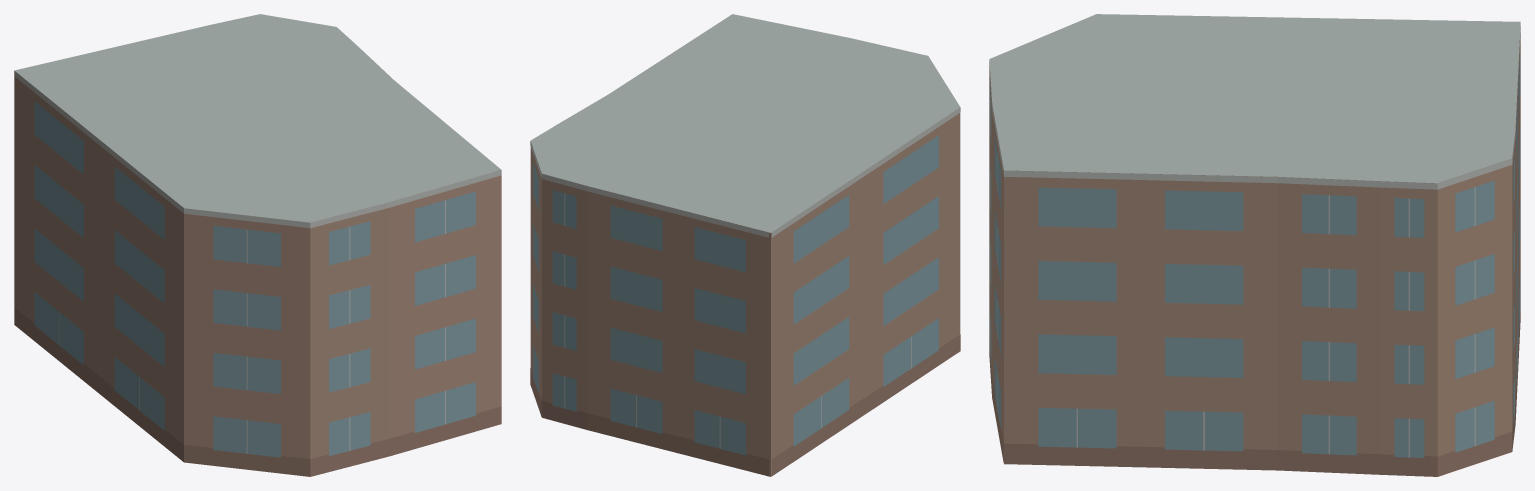
The model's file is survey-upis-32576936.glb.
3 views of the same model, side by side, from view 1: azimuth 30°, elevation 25°; view 2: azimuth 150°, elevation 25°; view 3: azimuth 270°, elevation 25° (orthographic). The views are drawn at different scales.
Parts seen in each view (by area): view 1: survey-upis-32576936.tmp; view 2: survey-upis-32576936.tmp; view 3: survey-upis-32576936.tmp.
Part boxes in pixels (x1,y1,x2,y2): survey-upis-32576936.tmp: [14, 14, 501, 476]; survey-upis-32576936.tmp: [530, 14, 960, 476]; survey-upis-32576936.tmp: [989, 14, 1520, 476].
Bounding box in the file's own units: 13.85 × 11.2 × 18.38.
